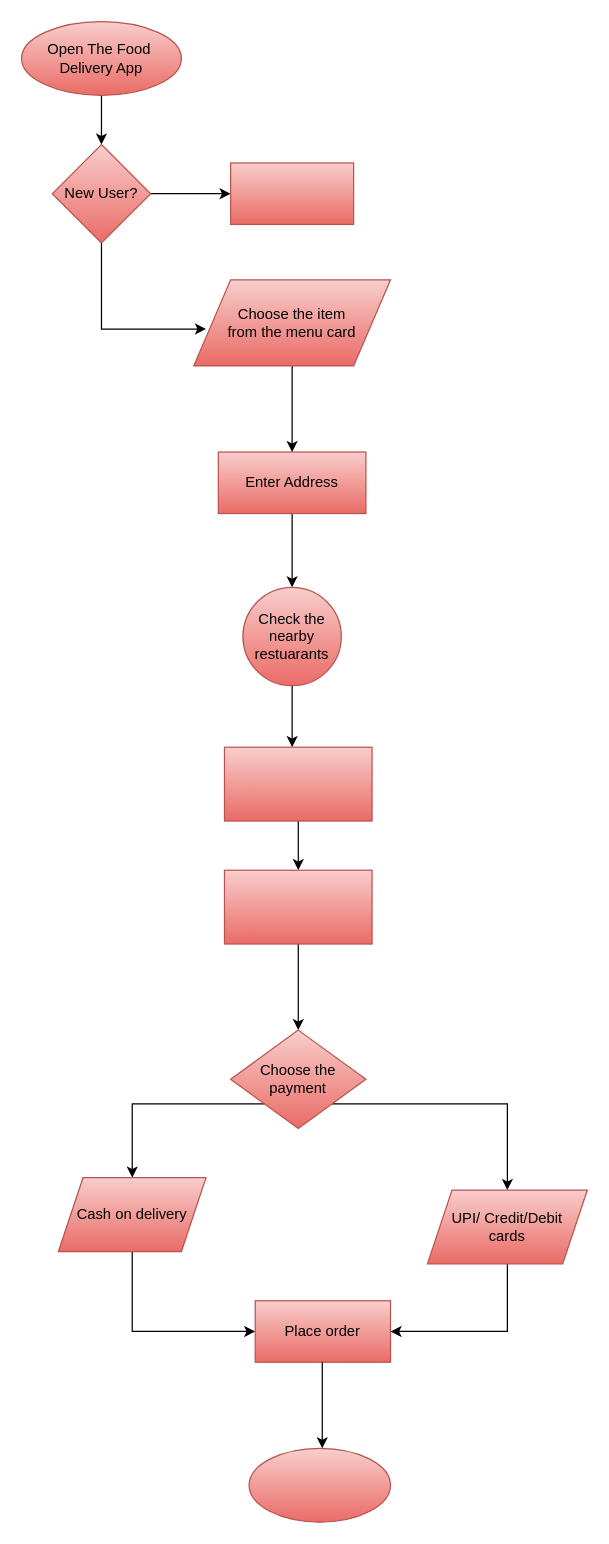
The diagram is 609 pixels wide and 1544 high, and some of its shapes have lost their labels. Here are the shapes that lost their labels. From the top down, the centre of each, then its label:
pixel 291 193: Enter Details
pixel 297 783: Select Restaurant
pixel 297 906: Select the items from the menu
pixel 319 1484: Order confirmed
